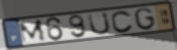6: (45, 16, 64, 42)
9: (67, 14, 87, 39)
C: (111, 10, 135, 34)
G: (133, 7, 157, 31)
M: (18, 18, 48, 45)
U: (87, 11, 112, 36)
